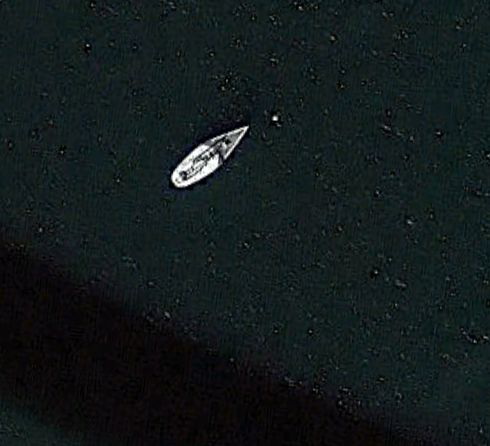boat: (171, 123, 251, 189)
